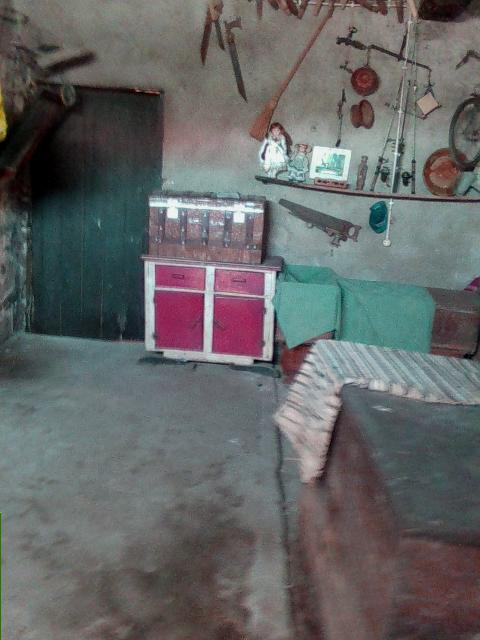closed_door: (22, 80, 164, 347)
